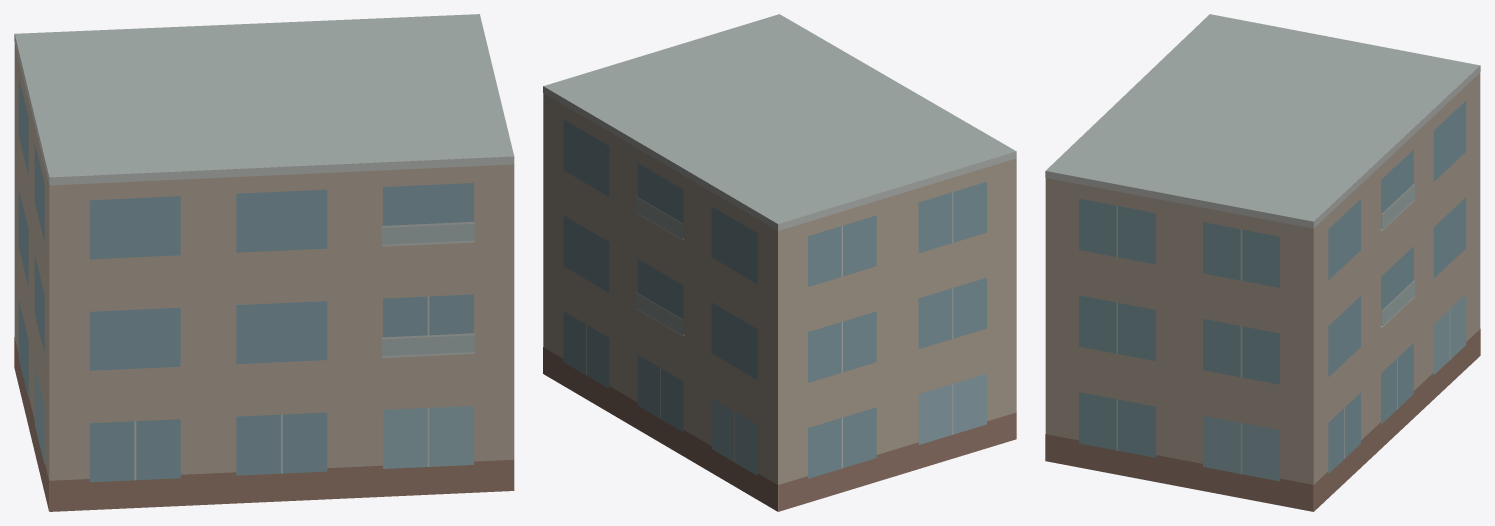
The model's file is survey-upis-32534300.glb.
3 renders of one model, left to right at view 1: azimuth 30°, elevation 25°; view 2: azimuth 150°, elevation 25°; view 3: azimuth 270°, elevation 25°, orthographic. The views are drawn at different scales.
Parts seen in each view (by area): view 1: survey-upis-32534300.tmp; view 2: survey-upis-32534300.tmp; view 3: survey-upis-32534300.tmp.
Boxes of the visible parts, left/top/right/bottom form: survey-upis-32534300.tmp: left=14, top=14, right=514, bottom=511; survey-upis-32534300.tmp: left=543, top=14, right=1016, bottom=511; survey-upis-32534300.tmp: left=1045, top=14, right=1480, bottom=511.
Size of the model in its own units: 15.66 by 10.2 by 13.87.
